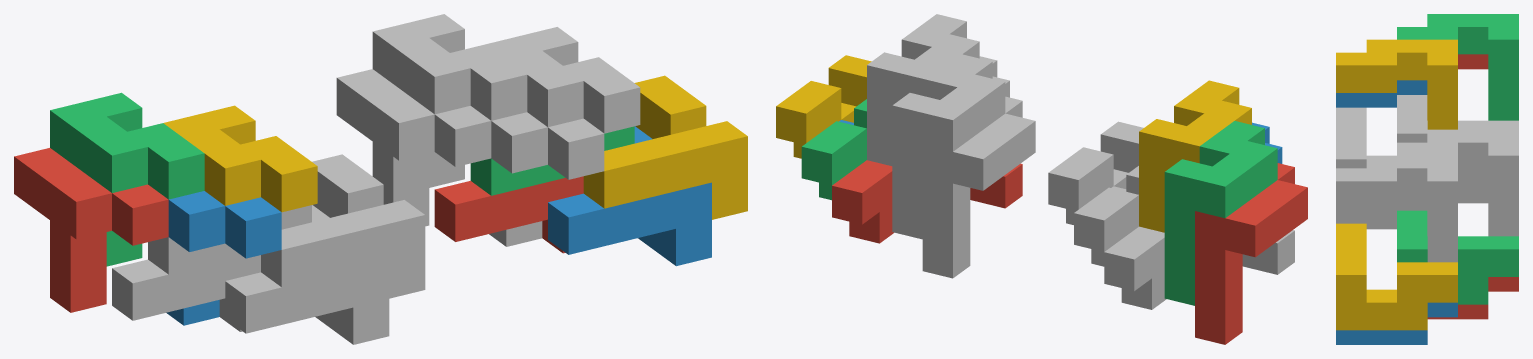
File: tiling.obj
3 views of the same model, side by side, from view 1: azimuth 30°, elevation 25°; view 2: azimuth 150°, elevation 25°; view 3: azimuth 270°, elevation 25° (orthographic). The views are drawn at different scales.
Visible parts, largest first — view 1: copy_2_domain_4, copy_2_domain_8, copy_1_domain_1, copy_1_domain_7, copy_1_domain_3, copy_1_domain_5, copy_2_domain_2, copy_1_domain_8, copy_1_domain_4, copy_2_domain_6, copy_1_domain_6, copy_1_domain_2 (+4 smaller); view 2: copy_1_domain_7, copy_1_domain_3, copy_1_domain_5, copy_1_domain_1, copy_1_domain_4, copy_1_domain_8, copy_2_domain_5, copy_2_domain_1, copy_2_domain_4, copy_2_domain_8, copy_2_domain_7, copy_2_domain_3; view 3: copy_2_domain_8, copy_1_domain_8, copy_1_domain_4, copy_1_domain_7, copy_1_domain_3, copy_2_domain_7, copy_2_domain_3, copy_2_domain_4, copy_2_domain_6, copy_1_domain_2, copy_1_domain_6, copy_2_domain_5 (+4 smaller).
Part boxes in pixels (x1,y1,x2,y2): copy_2_domain_4: (261, 154, 425, 298); copy_2_domain_8: (583, 75, 747, 219); copy_1_domain_1: (14, 148, 168, 312); copy_1_domain_7: (372, 14, 527, 187); copy_1_domain_3: (50, 92, 204, 266); copy_1_domain_5: (336, 69, 491, 226); copy_2_domain_2: (225, 205, 389, 344); copy_1_domain_8: (486, 27, 640, 133); copy_1_domain_4: (163, 105, 317, 212); copy_2_domain_6: (548, 126, 711, 266); copy_1_domain_6: (489, 112, 604, 246); copy_1_domain_2: (166, 191, 281, 325); copy_1_domain_7: (892, 54, 1005, 239); copy_1_domain_3: (1164, 121, 1277, 305); copy_1_domain_5: (922, 96, 1035, 278); copy_1_domain_1: (1195, 163, 1307, 344); copy_1_domain_4: (1139, 80, 1251, 232); copy_1_domain_8: (867, 14, 979, 165); copy_2_domain_5: (832, 160, 1022, 243); copy_2_domain_1: (1104, 226, 1294, 309); copy_2_domain_4: (1048, 121, 1143, 224); copy_2_domain_8: (776, 55, 871, 158); copy_2_domain_7: (801, 99, 866, 200); copy_2_domain_3: (1074, 166, 1138, 266); copy_2_domain_8: (1336, 223, 1457, 330); copy_1_domain_8: (1336, 155, 1457, 262); copy_1_domain_4: (1336, 39, 1457, 129); copy_1_domain_7: (1397, 129, 1518, 236); copy_1_domain_3: (1397, 14, 1518, 120); copy_2_domain_7: (1397, 210, 1518, 304); copy_2_domain_3: (1397, 95, 1518, 188); copy_2_domain_4: (1336, 107, 1366, 168); copy_2_domain_6: (1336, 302, 1457, 344); copy_1_domain_2: (1336, 80, 1427, 107); copy_1_domain_6: (1336, 196, 1427, 223); copy_2_domain_5: (1427, 277, 1518, 319).
Bounding box in the file's own units: 17 × 5 × 6.
